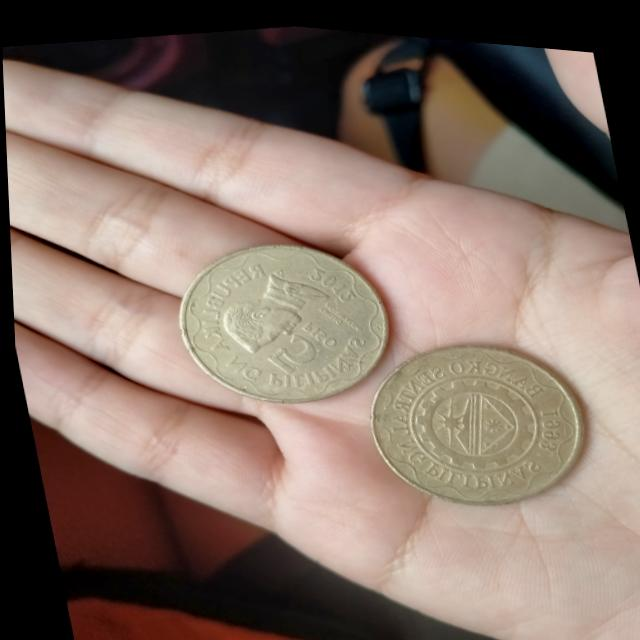5_Old_Back: (352, 313, 594, 519)
5_Old_Front: (260, 304, 347, 376)
